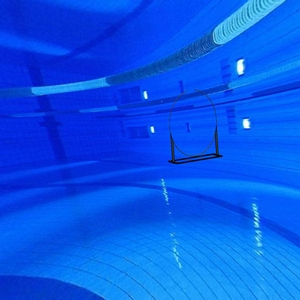circle: (167, 89, 224, 164)
